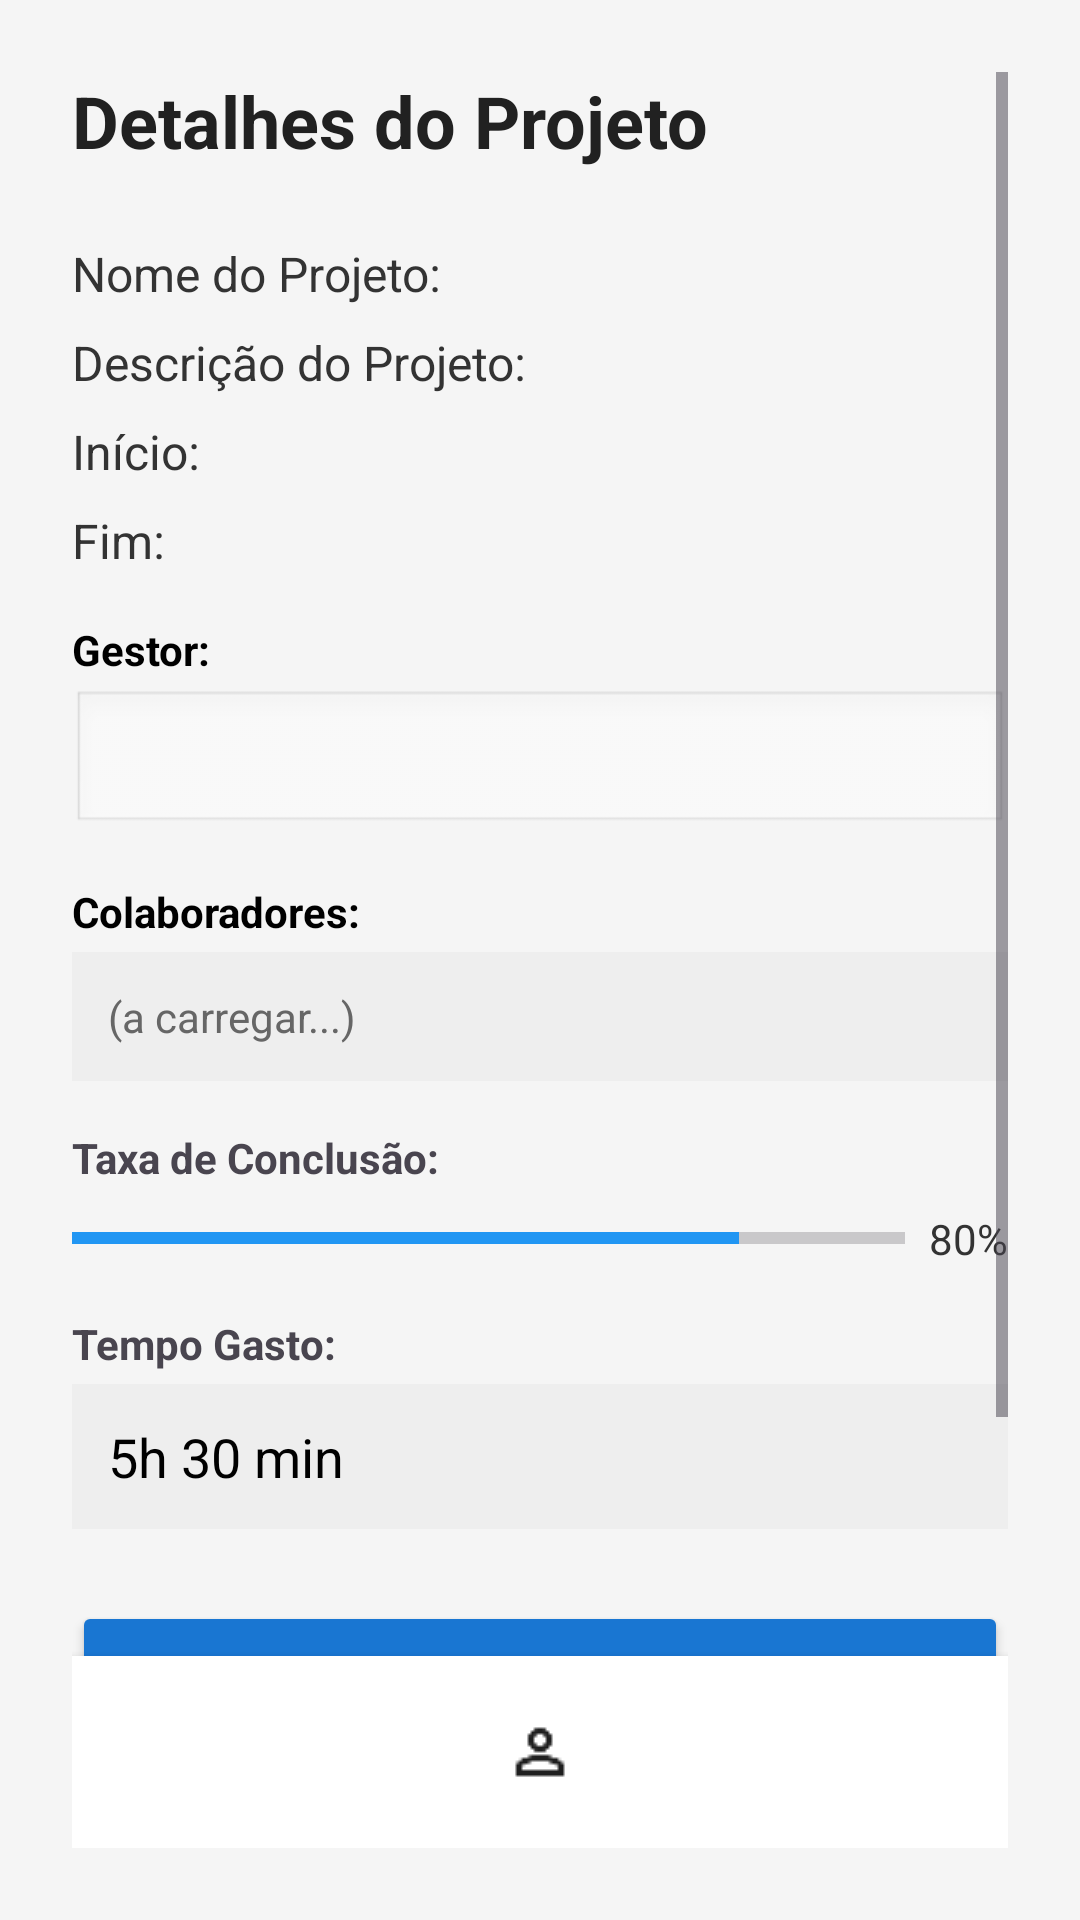

Icons on this 1080w x 1920h Android screen, each with its box as (left=x1, top=y1, right=x2, bottom=y2):
Perfil: (left=515, top=1727, right=565, bottom=1777)
